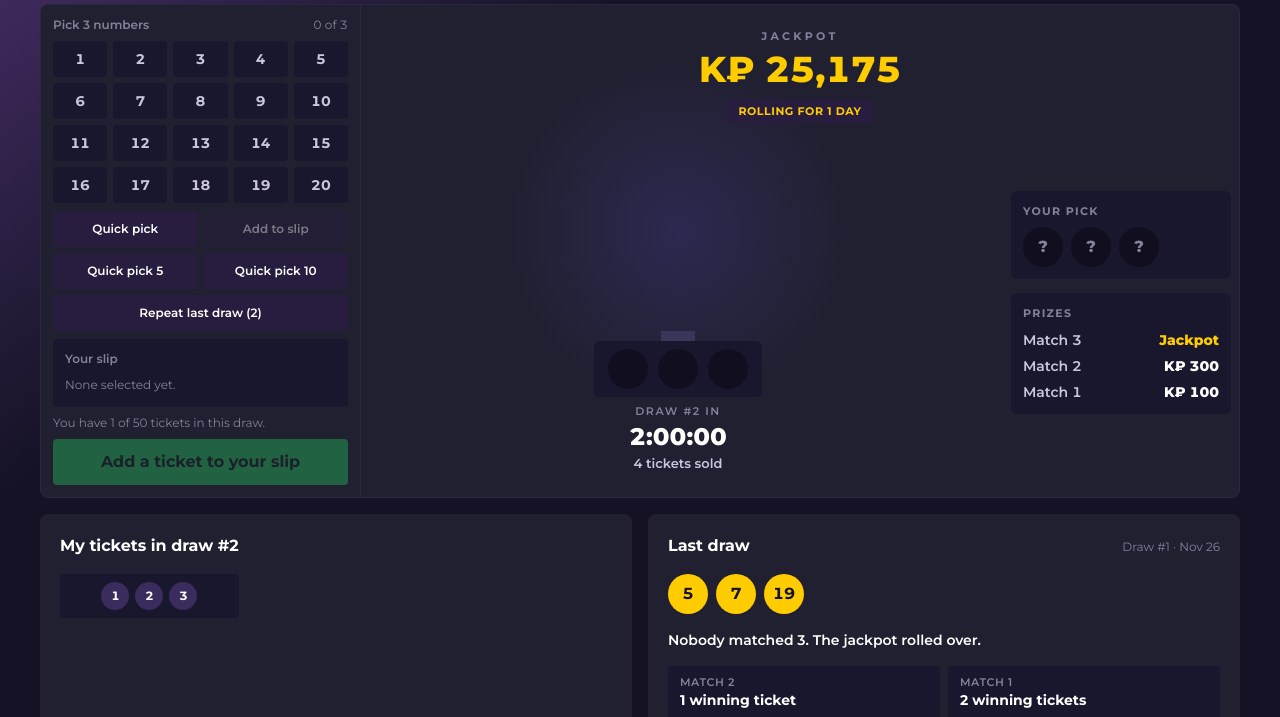
Test: the lottery page view › builds a slip from the number grid and buys it
The image size is (1280, 717).
What coordinates should you click on to do the following:
click the button "19"
I would click on:
 (261, 185)
Its box is [234, 167, 288, 203].
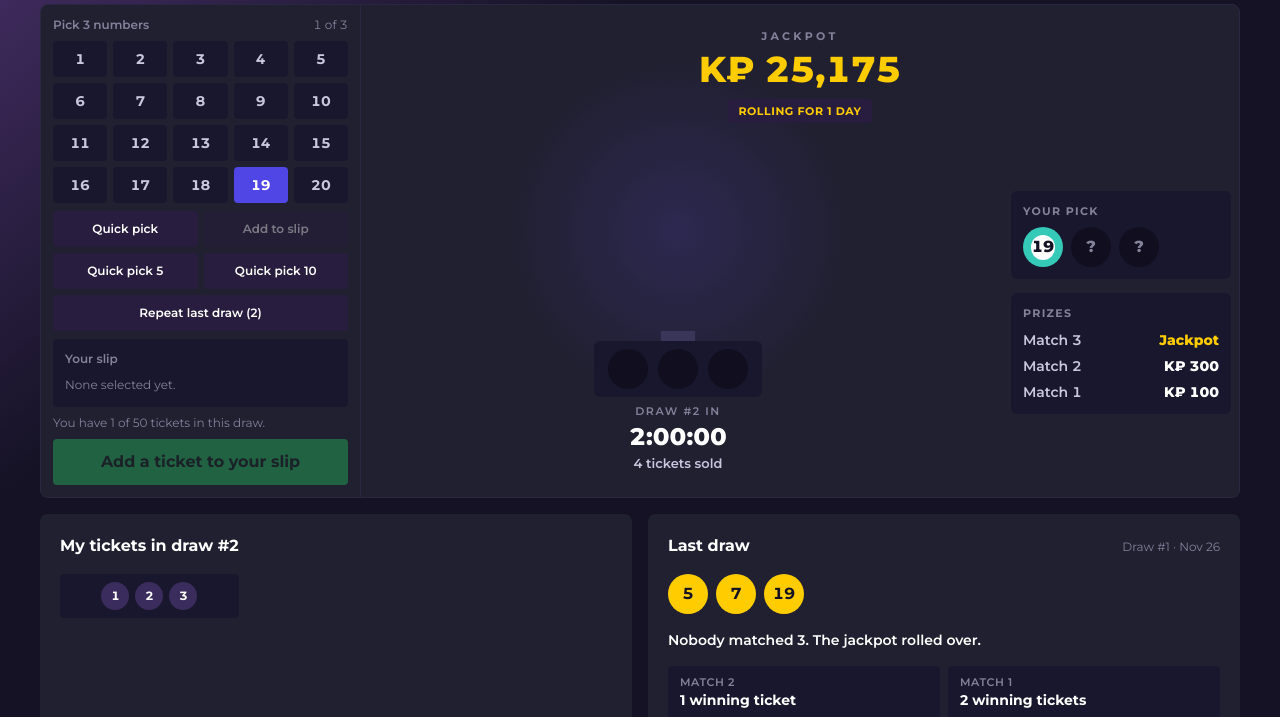
What coordinates should you click on to do the following:
click the button "3"
I would click on:
 (200, 59)
Its box is [173, 41, 228, 77].
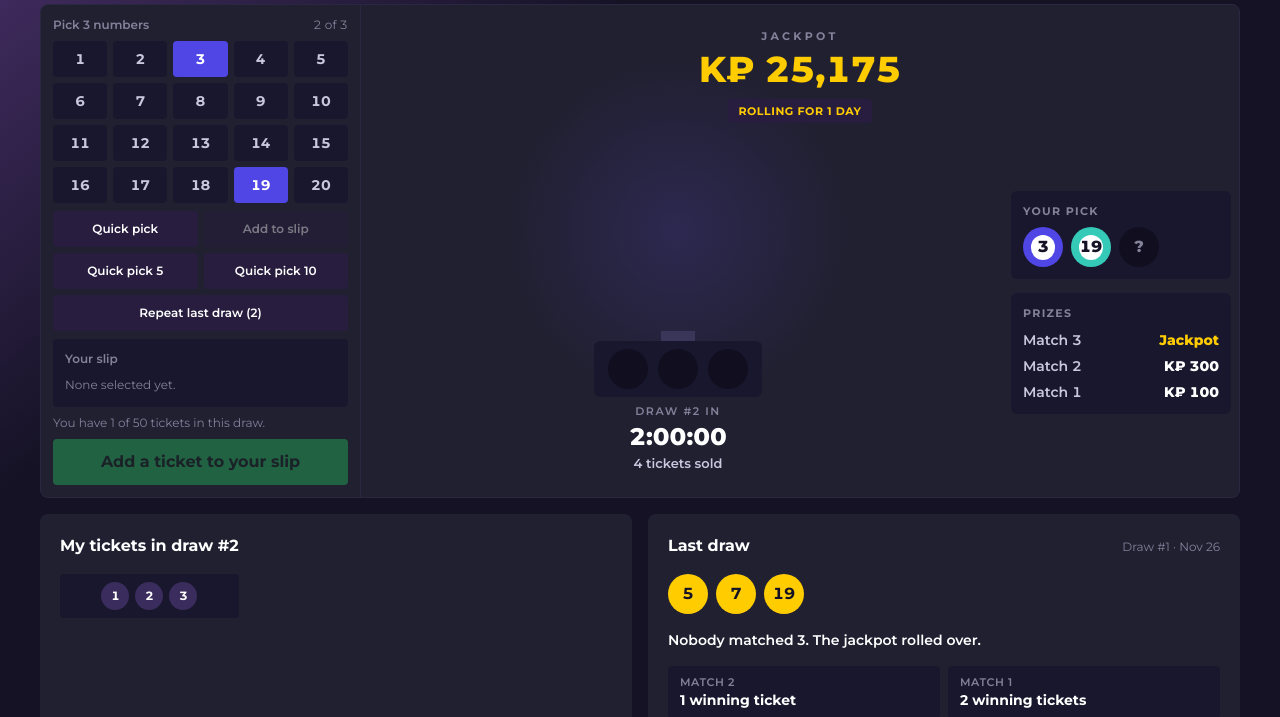
What coordinates should you click on to do the following:
click the button "7"
I would click on:
 (140, 101)
Its box is [113, 83, 167, 119].
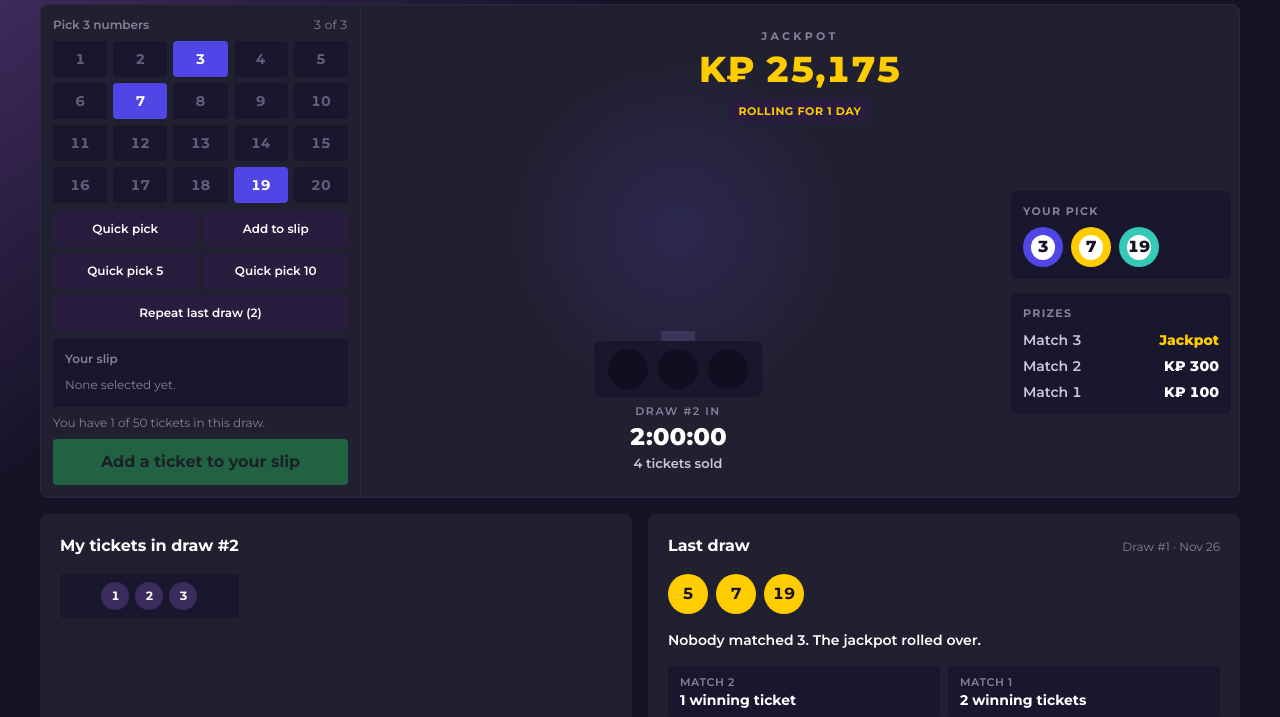
Now the text with test id "pick-hint" reads "3 of 3", box [313, 17, 348, 32]
What coordinates should you click on to do the following:
click the button "Add to slip"
I would click on:
 (276, 229)
Its box is [204, 211, 348, 247].
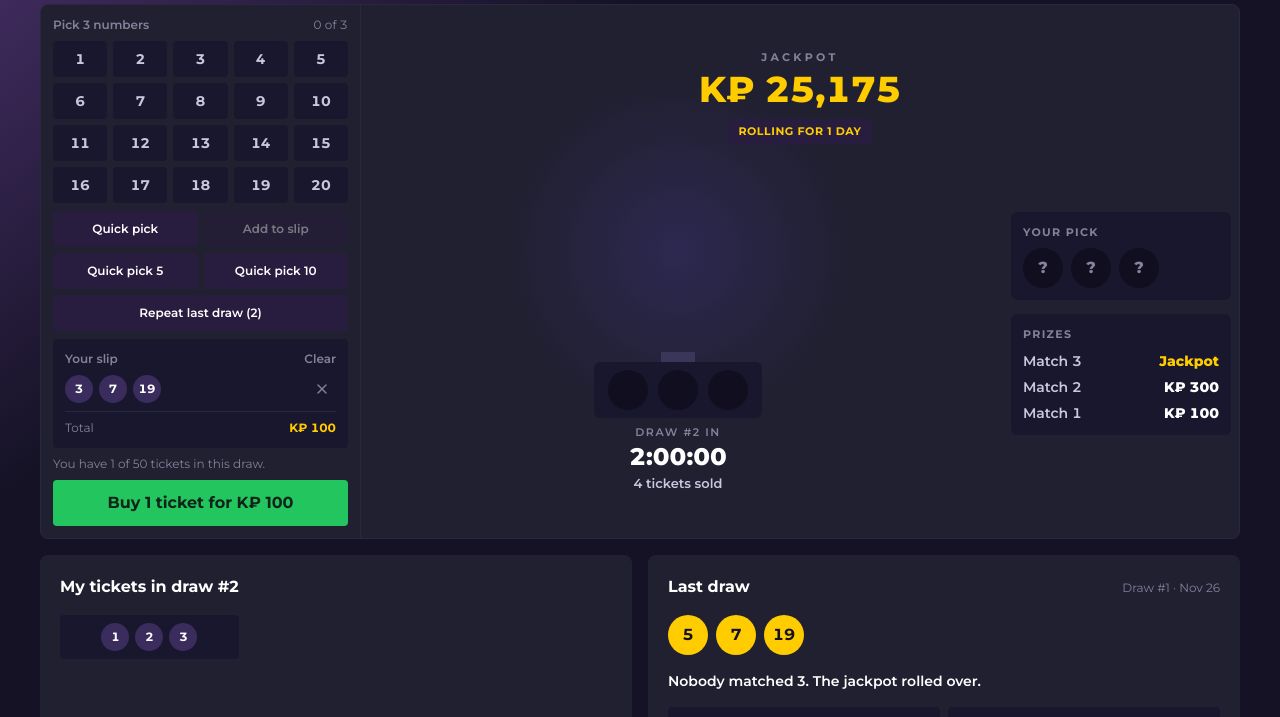
Now the number of list items with test id "slip-row" is 1, box [65, 375, 336, 403]
What coordinates should you click on to do the following:
click the button "Buy 1 ticket for K₽ 100"
I would click on:
 (200, 503)
Its box is [53, 480, 348, 526].
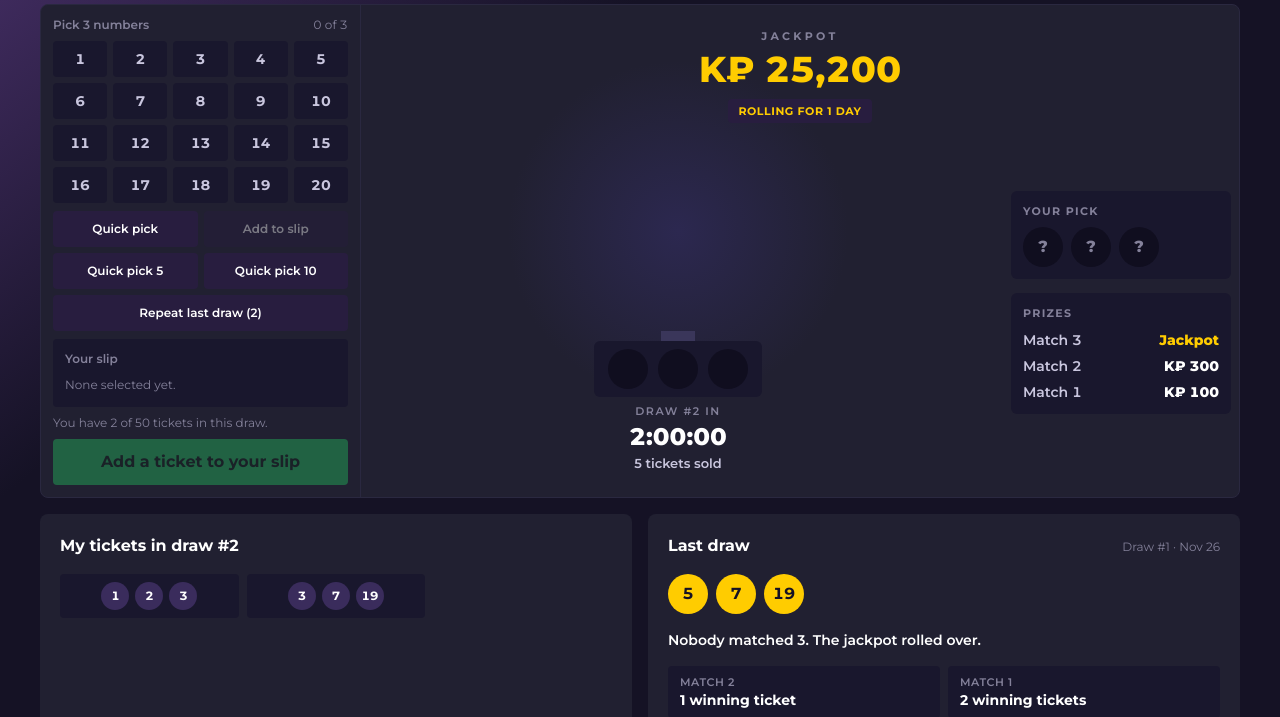
Now no list items with test id "slip-row" are shown
Now the number of list items with test id "my-ticket" is 2, box [60, 574, 239, 618]; [247, 574, 425, 618]
